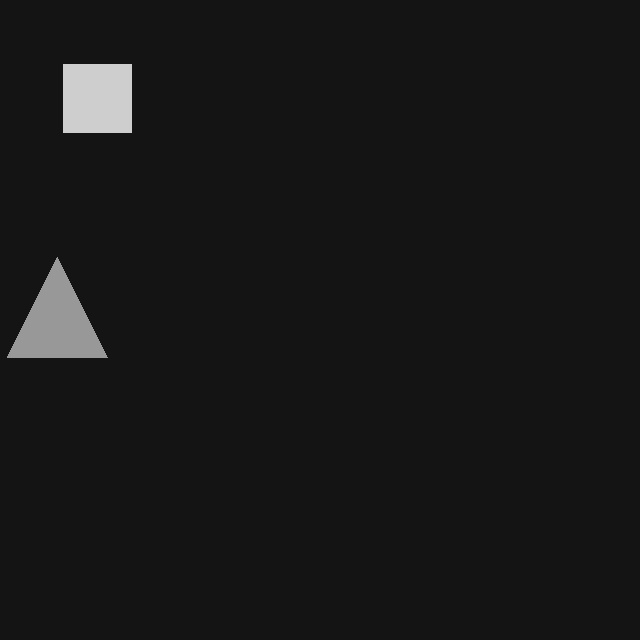square: (63, 64, 131, 132)
triangle: (7, 257, 107, 357)
